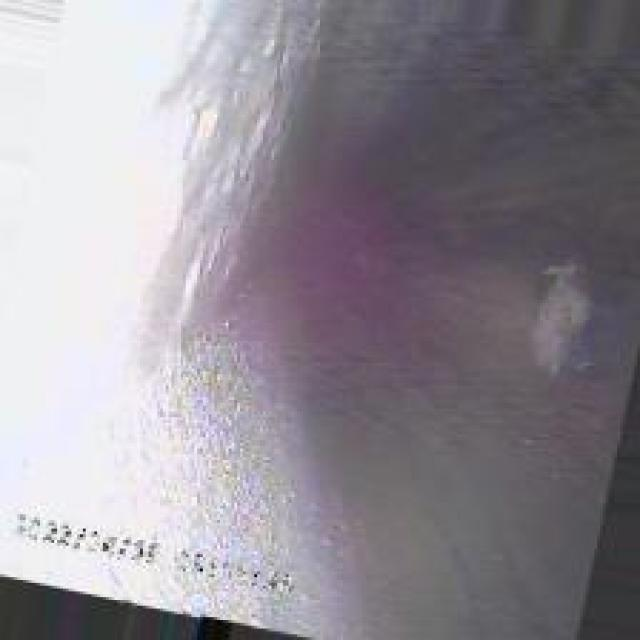ferrule: (526, 263, 603, 380)
